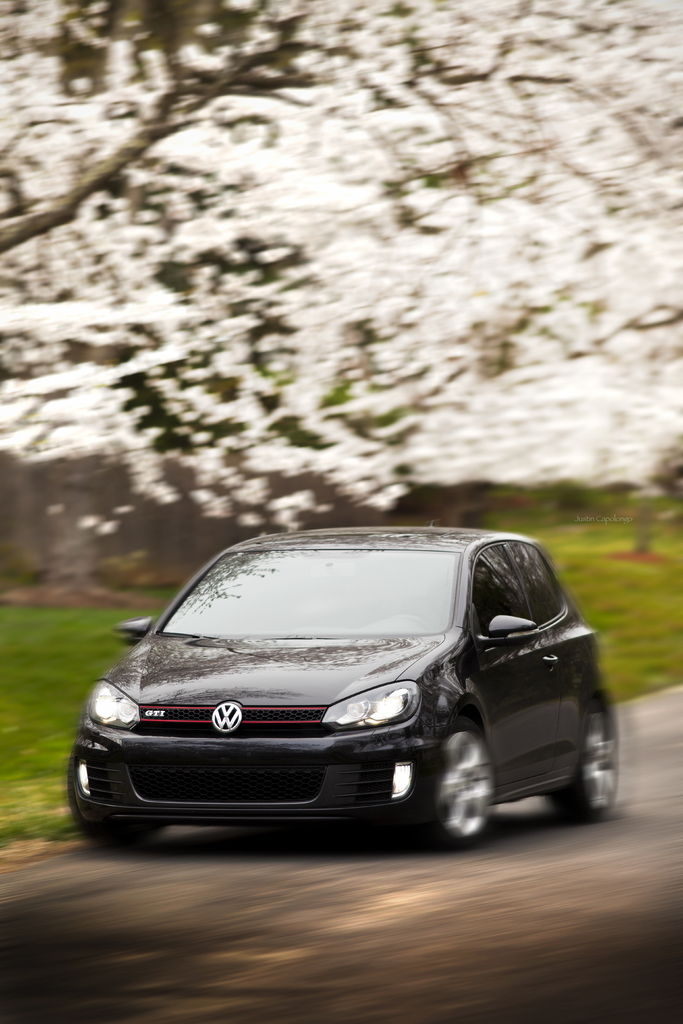Car: (59, 519, 621, 853)
